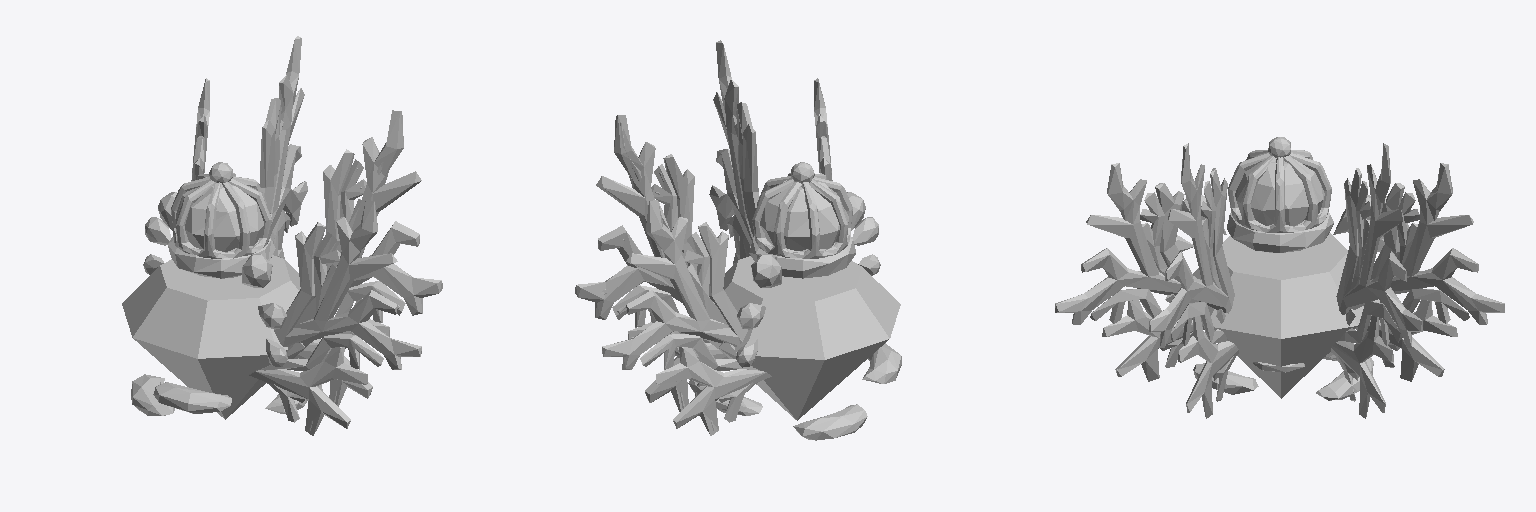
The model's file is Mythic Immortality Stone.obj.
3 renders of one model, left to right at view 1: azimuth 30°, elevation 25°; view 2: azimuth 150°, elevation 25°; view 3: azimuth 270°, elevation 25°, orthographic.
Parts seen in each view (by area): view 1: Meshpart17, Meshpart3, Meshpart15, Meshpart10, Meshpart1, Meshpart6, Meshpart11, Meshpart12; view 2: Meshpart17, Meshpart3, Meshpart15, Meshpart10, Meshpart6, Meshpart1, Meshpart11, Meshpart12; view 3: Meshpart17, Meshpart15, Meshpart3, Meshpart10, Meshpart11, Meshpart12, Meshpart6, Meshpart1.
Boxes of the visible parts, <box> form: Meshpart17: <box>191,78,421,435</box>; Meshpart3: <box>122,255,313,419</box>; Meshpart15: <box>259,36,442,406</box>; Meshpart10: <box>171,173,271,258</box>; Meshpart1: <box>143,192,287,366</box>; Meshpart6: <box>131,374,306,415</box>; Meshpart11: <box>176,177,263,251</box>; Meshpart12: <box>168,237,275,278</box>; Meshpart17: <box>602,78,832,435</box>; Meshpart3: <box>708,256,900,420</box>; Meshpart15: <box>575,40,759,411</box>; Meshpart10: <box>752,173,852,258</box>; Meshpart6: <box>688,343,901,440</box>; Meshpart1: <box>736,192,880,367</box>; Meshpart11: <box>760,180,848,250</box>; Meshpart12: <box>749,236,855,278</box>; Meshpart17: <box>1055,163,1504,381</box>; Meshpart15: <box>1149,143,1422,418</box>; Meshpart3: <box>1189,233,1379,398</box>; Meshpart10: <box>1228,150,1331,232</box>; Meshpart11: <box>1235,153,1324,225</box>; Meshpart12: <box>1227,212,1333,252</box>; Meshpart6: <box>1193,329,1373,400</box>; Meshpart1: <box>1154,195,1406,292</box>.
Bounding box in the file's own units: 24.41 × 29.85 × 38.75.